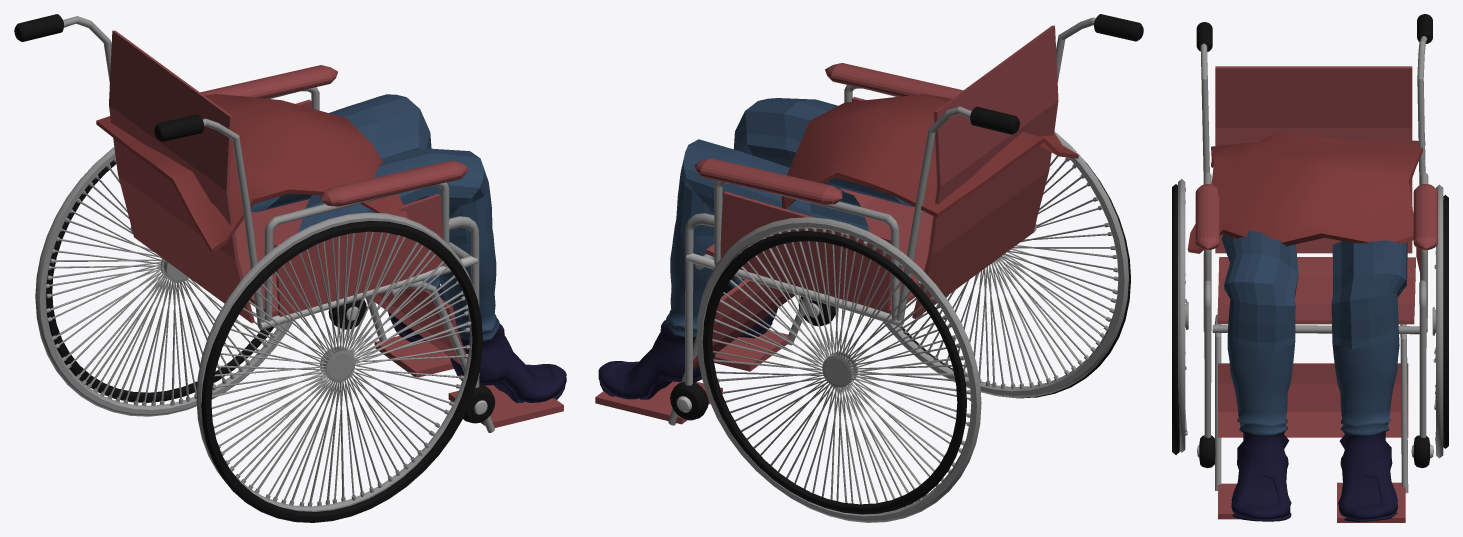
Rendered from Wheelchair.fbx.
3 renders of one model, left to right at view 1: azimuth 30°, elevation 25°; view 2: azimuth 150°, elevation 25°; view 3: azimuth 270°, elevation 25°, orthographic. The views are drawn at different scales.
Parts seen in each view (by area): view 1: polySurface2; view 2: polySurface2; view 3: polySurface2.
Part boxes in pixels (x1,y1,x2,y2): polySurface2: [14, 14, 566, 522]; polySurface2: [595, 14, 1143, 522]; polySurface2: [1172, 14, 1448, 522].
Size of the model in its own units: 31.61 by 29.21 by 20.12.
